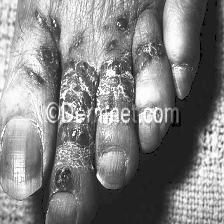Benign Marking or Mole: (64, 64, 135, 96), (102, 14, 136, 51), (35, 9, 63, 47), (58, 128, 89, 148), (23, 65, 49, 86), (56, 168, 76, 193), (69, 32, 89, 52)
